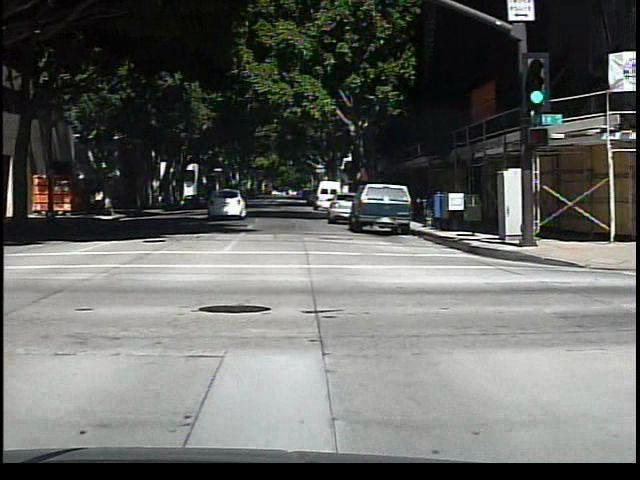person: (91, 183, 108, 218)
